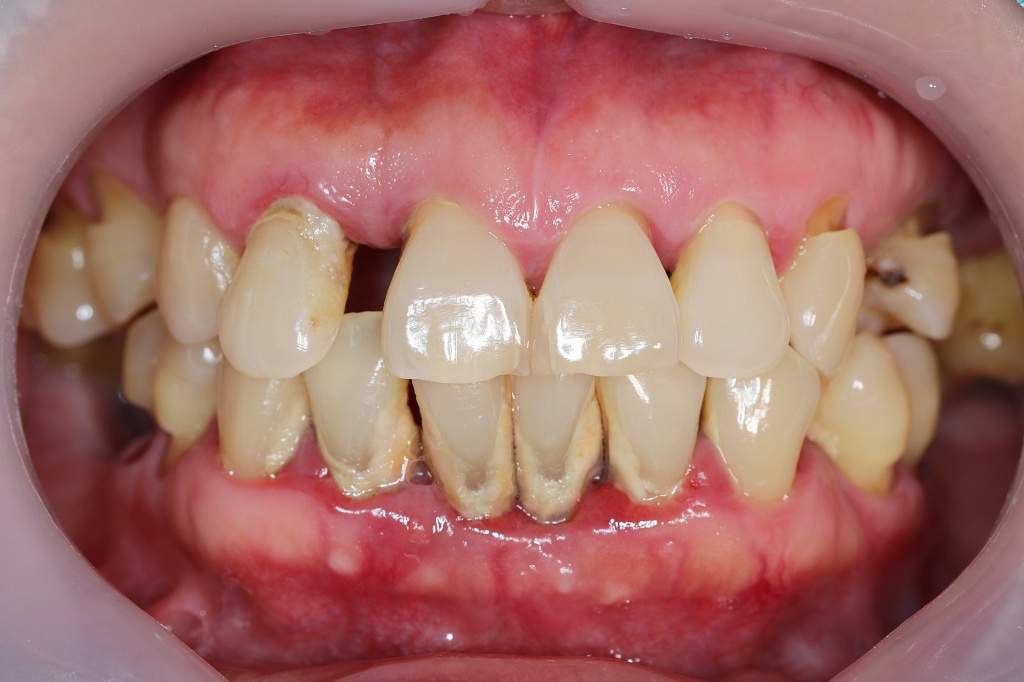LL1BC_healthy: (823, 331, 945, 490)
LLCI_decay: (511, 372, 603, 520)
LLC_healthy: (706, 352, 822, 511)
LLLI_decay: (599, 369, 706, 513)
LR1BC_decay: (129, 327, 220, 446)
LRCI_decay: (416, 377, 521, 528)
LRC_healthy: (206, 359, 310, 493)
LRLI_decay: (301, 355, 419, 503)
UL1BC_decay: (872, 197, 960, 337)
ULCI_healthy: (532, 195, 682, 383)
ULC_decay: (785, 198, 873, 380)
ULLI_healthy: (674, 196, 793, 380)
UR1BC_decay: (76, 173, 163, 328)
URCI_healthy: (384, 194, 534, 384)
URC_healthy: (154, 192, 231, 347)
URLI_decay: (220, 189, 358, 382)
